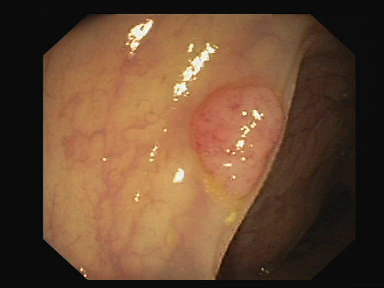polyp: (167, 80, 291, 192)
